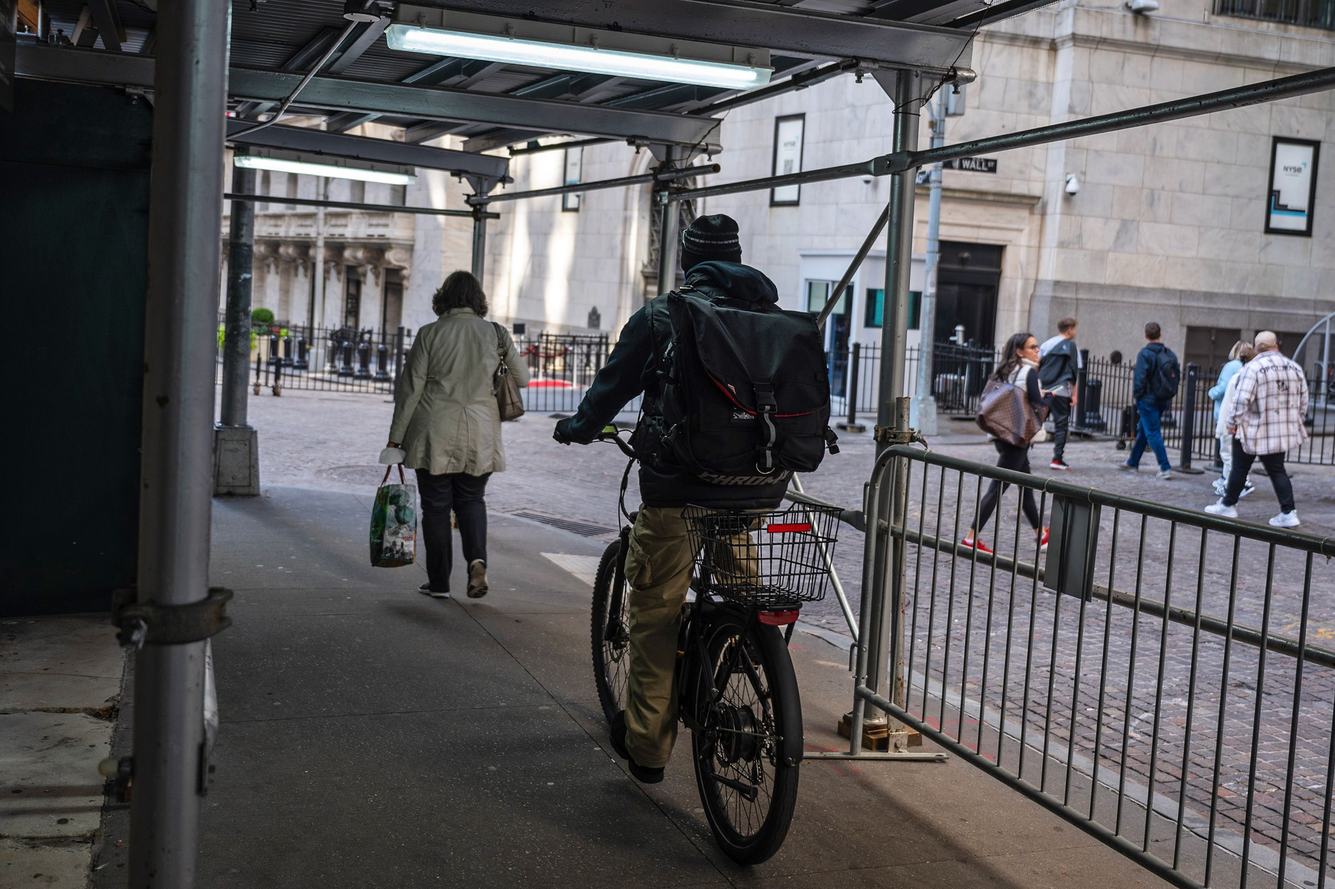Bicycle: (581, 457, 830, 858)
Person: (575, 214, 801, 740), (355, 263, 539, 605), (1219, 324, 1318, 530), (974, 322, 1052, 562), (1038, 320, 1104, 487), (1122, 309, 1184, 481)
